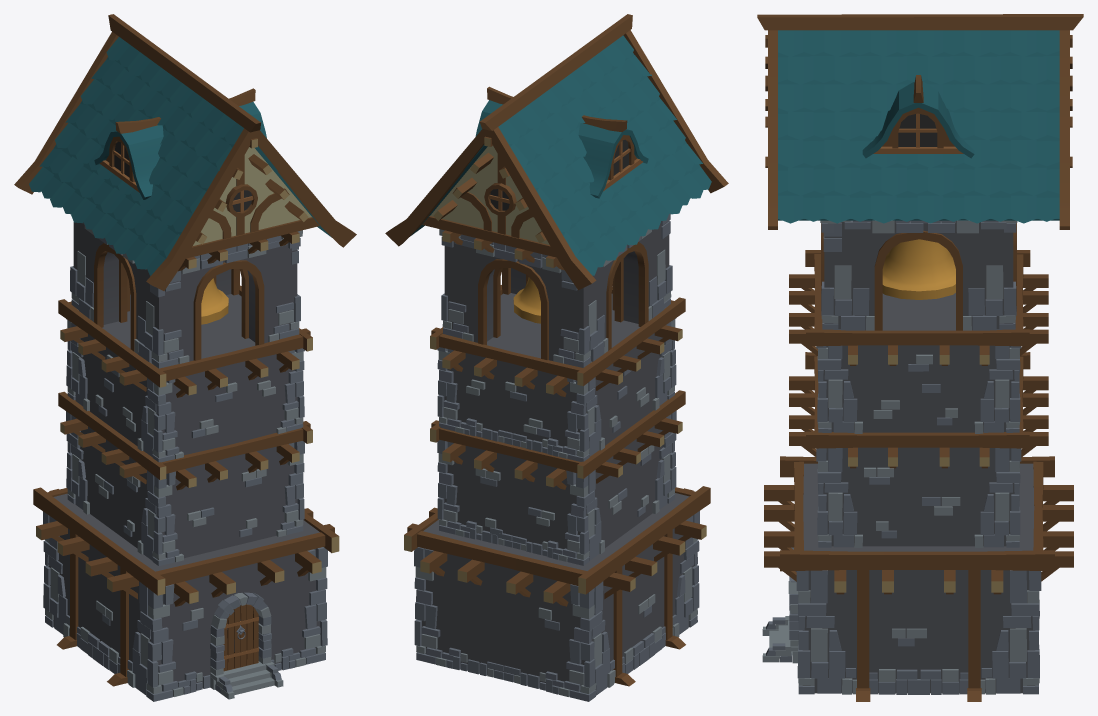
File: b_bell_tower.glb
3 views of the same model, side by side, from view 1: azimuth 30°, elevation 25°; view 2: azimuth 150°, elevation 25°; view 3: azimuth 270°, elevation 25° (orthographic). The views are drawn at different scales.
Visible parts, largest first — view 1: Bell_Tower; view 2: Bell_Tower; view 3: Bell_Tower.
Boxes of the visible parts, x1,y1,x2,y2 form: Bell_Tower: (14,14,356,701); Bell_Tower: (385,14,728,701); Bell_Tower: (757,14,1083,701).
Bounding box in the file's own units: 1.94 × 4.76 × 2.23.
